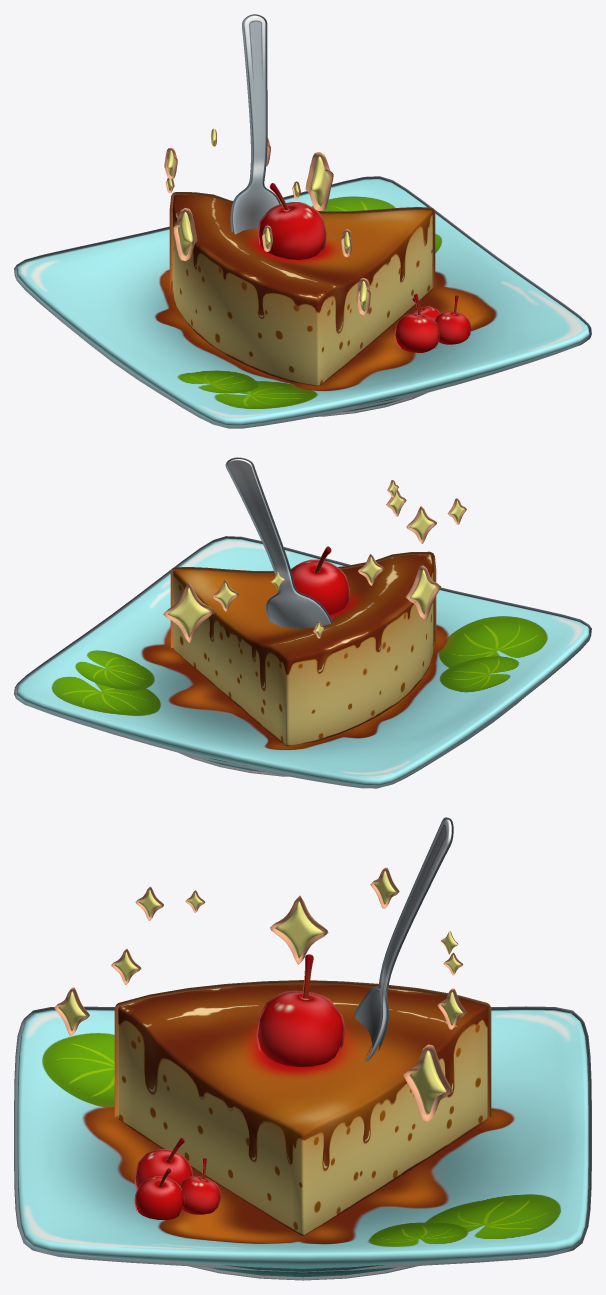
The model's file is 1764348192882-food-55.glb.
The picture shows the model from 3 angles, top to bottom: view 1: azimuth 30°, elevation 25°; view 2: azimuth 150°, elevation 25°; view 3: azimuth 270°, elevation 25°; orthographic projection. The views are drawn at different scales.
Parts seen in each view (by area): view 1: Quesillo; view 2: Quesillo; view 3: Quesillo.
Boxes of the visible parts, x1,y1,x2,y2 form: Quesillo: (14, 14, 591, 428); Quesillo: (14, 457, 591, 788); Quesillo: (14, 817, 591, 1280).
Bounding box in the file's own units: 1.68 × 1.21 × 1.68.
Materials: 2 (2 with a texture image).
